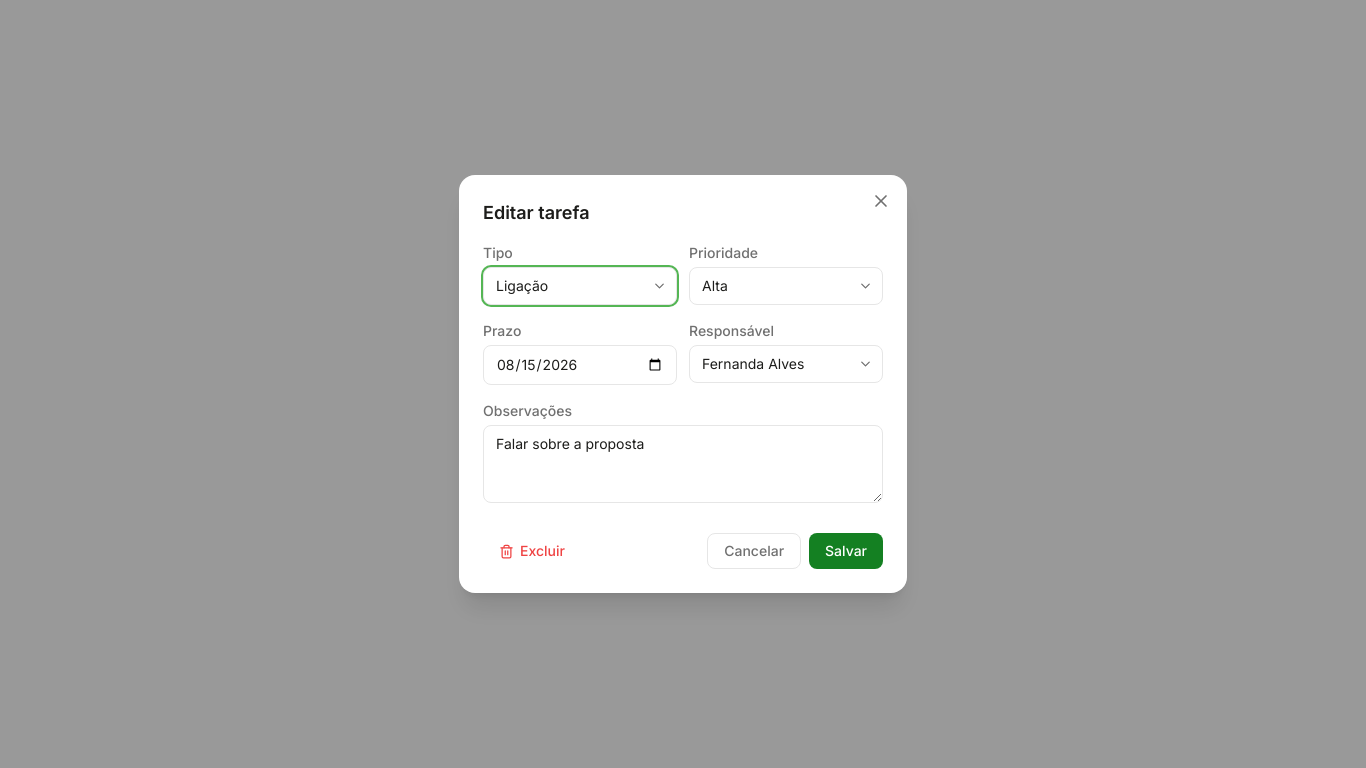
Test case: TaskDialog — edit mode › should ask for confirmation before deleting
The image size is (1366, 768).
Click the button "Excluir" at point(532, 551), box top-left (483, 533), bottom-right (581, 569)
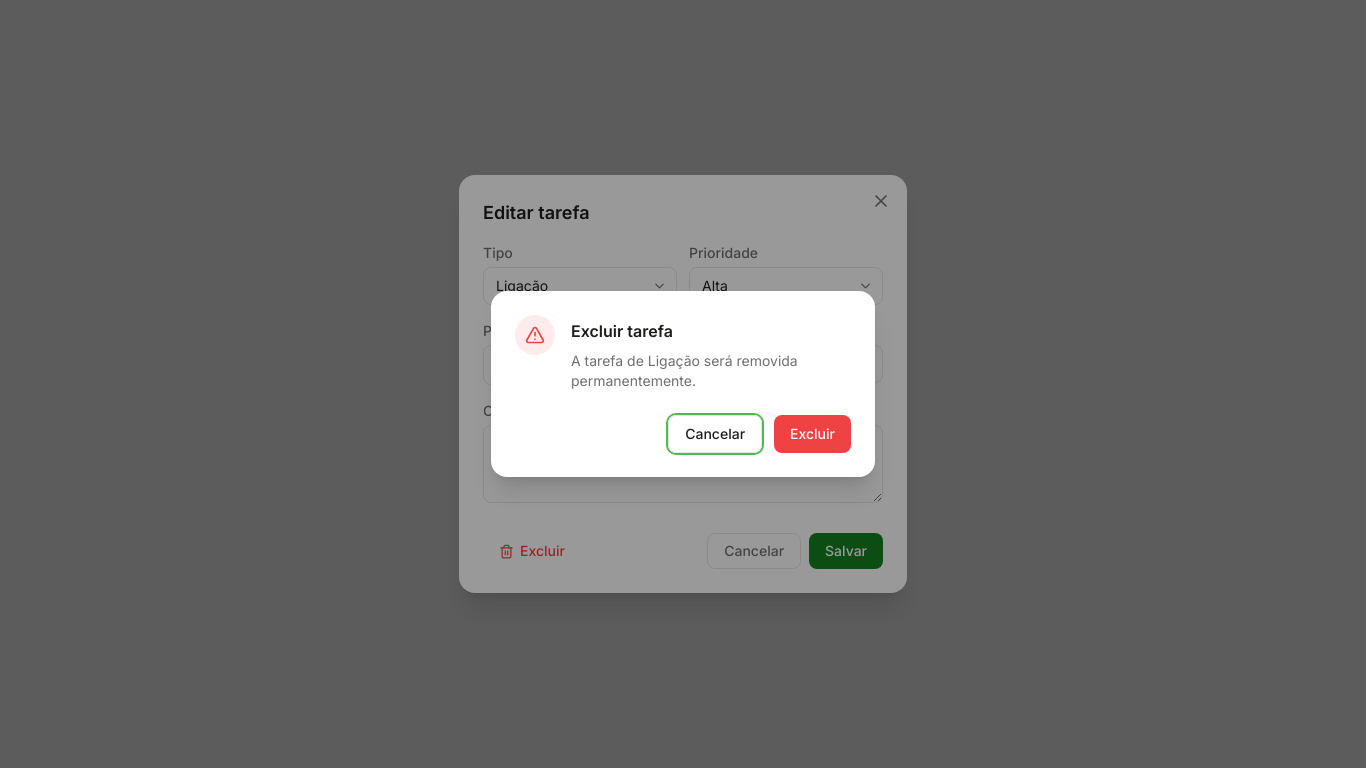
Check: the heading "Excluir tarefa" is shown, box top-left (571, 321), bottom-right (673, 341)
